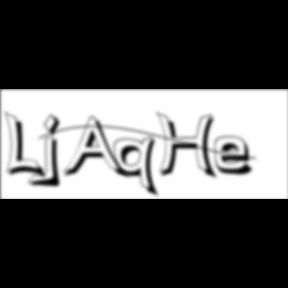A: (62, 116, 132, 182)
H: (156, 112, 222, 182)
L: (5, 110, 49, 182)
e: (215, 135, 261, 178)
j: (40, 113, 68, 191)
q: (114, 135, 162, 200)
